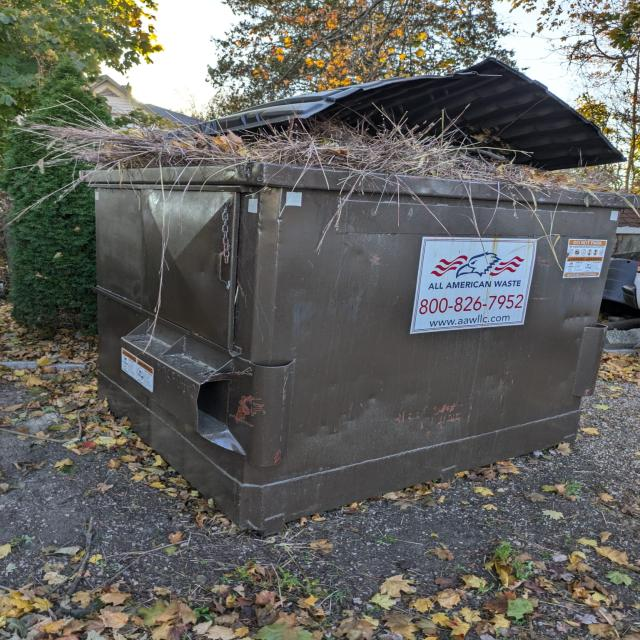Crevice Corrosion: (392, 391, 471, 434), (222, 392, 276, 428), (265, 448, 299, 471)
